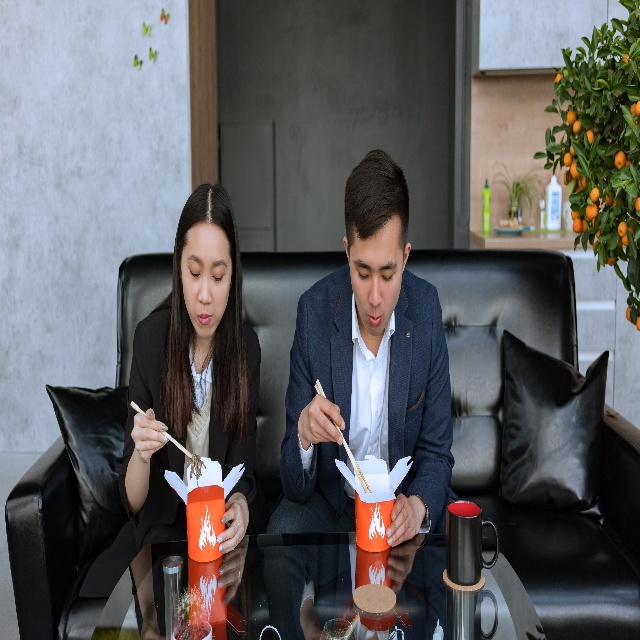Sin_guantes: (303, 396, 346, 448), (214, 495, 250, 557), (132, 405, 168, 463), (386, 492, 418, 548)
